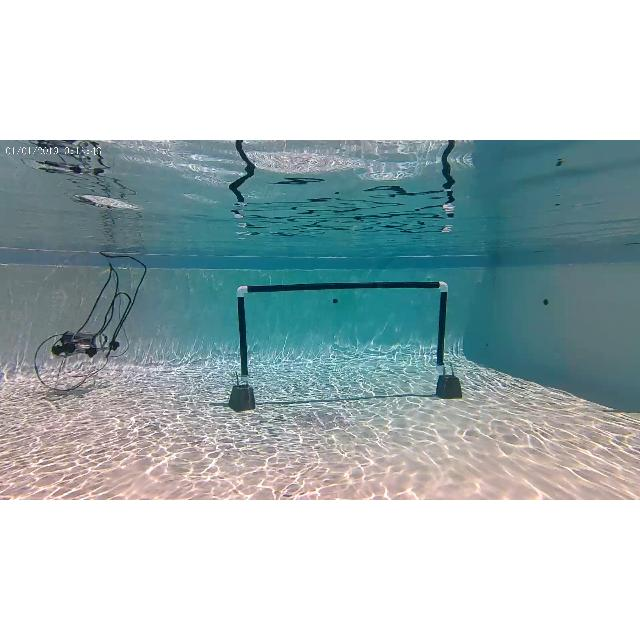prequal gate: (236, 281, 449, 383)
prequal gate leg l: (235, 284, 255, 384)
prequal gate leg r: (435, 281, 453, 371)
